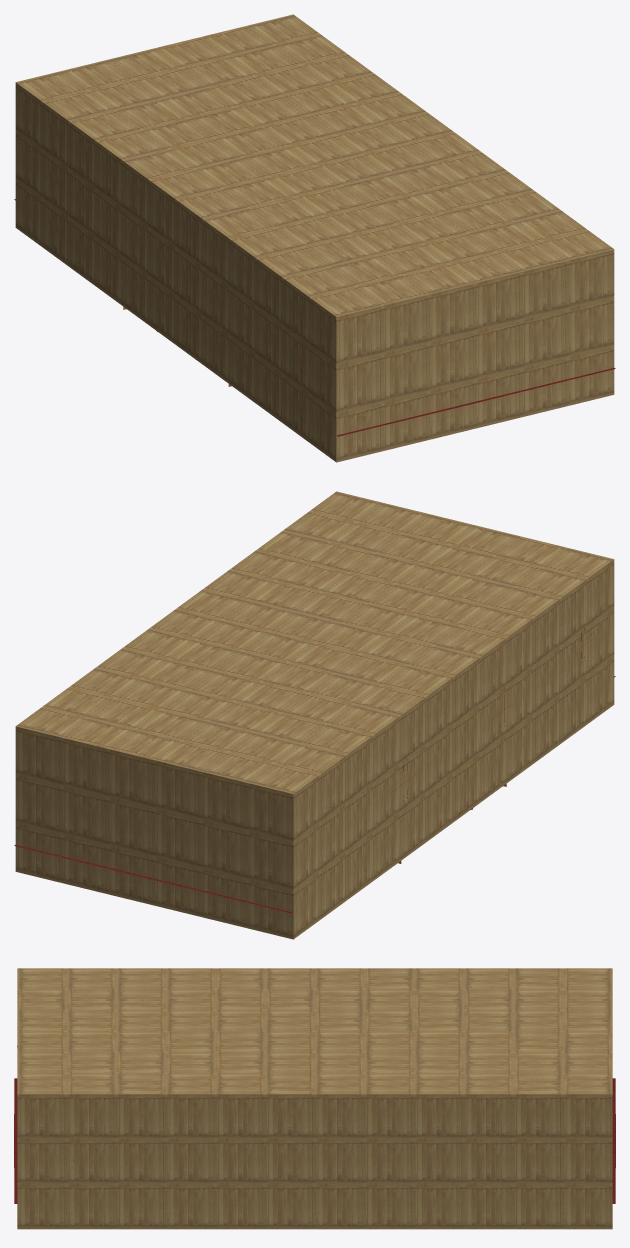
File: maferscene.glb
3 renders of one model, top to bottom at view 1: azimuth 30°, elevation 25°; view 2: azimuth 150°, elevation 25°; view 3: azimuth 270°, elevation 25°, orthographic. The views are drawn at different scales.
Visible parts, largest first — view 1: Structure; view 2: Structure; view 3: Structure.
Boxes of the visible parts, left/top/right/bottom form: Structure: left=14, top=14, right=615, bottom=462; Structure: left=14, top=491, right=615, bottom=939; Structure: left=14, top=968, right=615, bottom=1229.
Bounding box in the file's own units: 21.36 × 11.01 × 43.12.
Materials: 8 (7 with a texture image).
